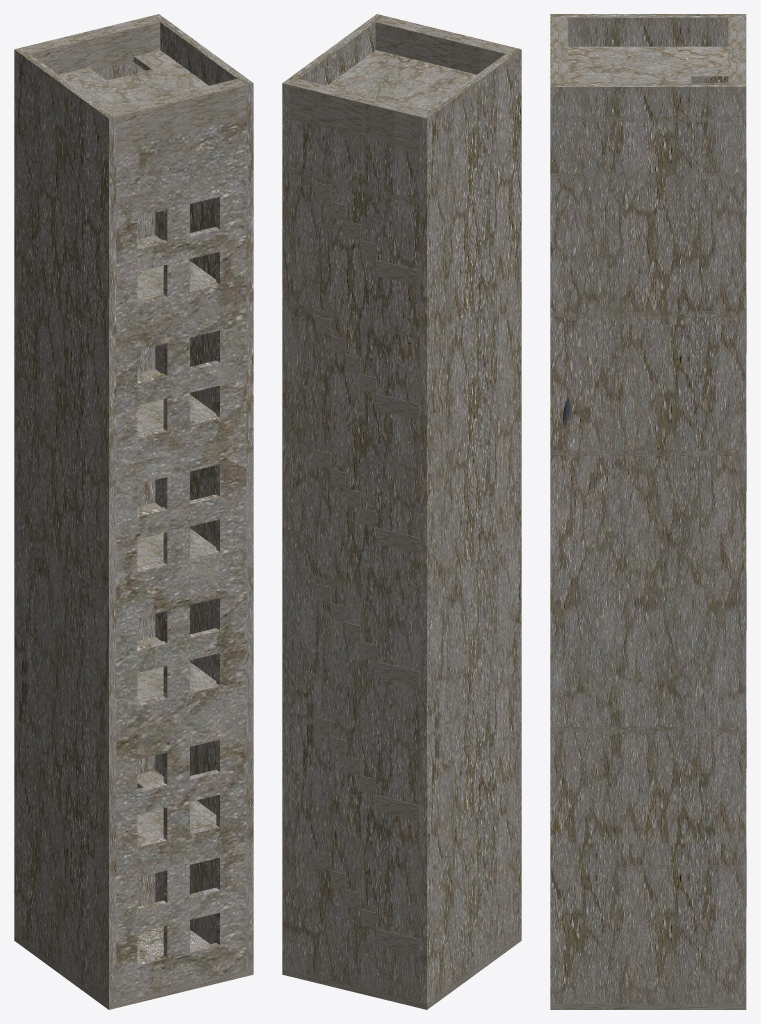
Rendered from small square.fbx.
The picture shows the model from 3 angles, left to right: view 1: azimuth 30°, elevation 25°; view 2: azimuth 150°, elevation 25°; view 3: azimuth 270°, elevation 25°; orthographic projection. The views are drawn at different scales.
Parts seen in each view (by area): view 1: box building; view 2: box building; view 3: box building.
Part boxes in pixels (x1,y1,x2,y2): box building: [14, 14, 253, 1009]; box building: [282, 14, 521, 1009]; box building: [550, 14, 746, 1009].
Size of the model in its own units: 19.26 by 21.87 by 113.
1 material, 1 textured.
